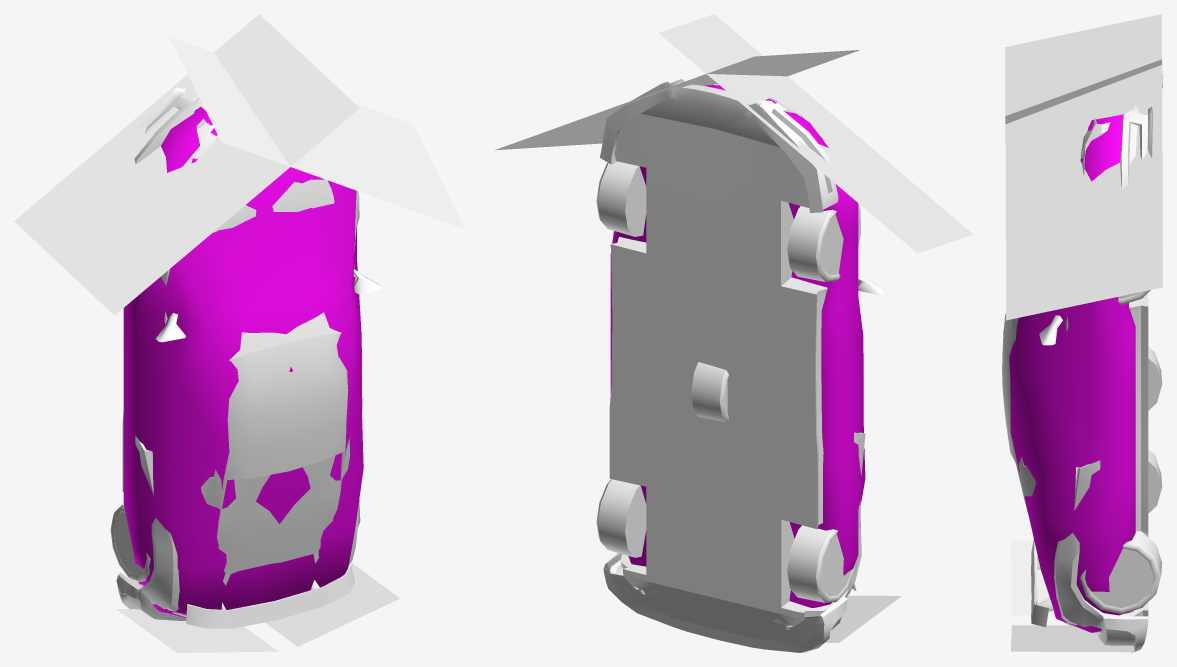
Rendered from AudiR8.glb.
3 views of the same model, side by side, from view 1: azimuth 30°, elevation 25°; view 2: azimuth 150°, elevation 25°; view 3: azimuth 270°, elevation 25° (orthographic). The views are drawn at different scales.
Visible parts, largest first — view 1: AudiR8Proxy, AudiR8FrontLights, AudiR8, AudiR8Glass, AudiR8RearLights, AudiR8Spoiler1, AudiR8FrontBumper2, AudiR8Wheel_LB, AudiR8RearBumper2; view 2: AudiR8, AudiR8FrontLights, AudiR8Proxy, AudiR8FrontBumper2, AudiR8RearBumper2, AudiR8Wheel_LB, AudiR8Wheel_LF, AudiR8Wheel_RB, AudiR8Wheel_RF, AudiR8Rims1, AudiR8RearLights; view 3: AudiR8FrontLights, AudiR8Proxy, AudiR8, AudiR8RearLights, AudiR8Wheel_RB, AudiR8FrontBumper2, AudiR8RearBumper2, AudiR8Spoiler1, AudiR8Rims1, AudiR8Wheel_LB.
Boxes of the visible parts, x1,y1,x2,y2 form: AudiR8Proxy: [123, 107, 363, 617]; AudiR8FrontLights: [14, 14, 465, 315]; AudiR8: [122, 123, 383, 617]; AudiR8Glass: [217, 312, 341, 575]; AudiR8RearLights: [116, 562, 399, 652]; AudiR8Spoiler1: [186, 564, 354, 628]; AudiR8FrontBumper2: [134, 87, 208, 164]; AudiR8Wheel_LB: [110, 504, 150, 581]; AudiR8RearBumper2: [116, 573, 186, 620]; AudiR8: [609, 84, 886, 619]; AudiR8FrontLights: [495, 14, 973, 253]; AudiR8Proxy: [610, 85, 865, 607]; AudiR8FrontBumper2: [600, 79, 838, 212]; AudiR8RearBumper2: [603, 553, 847, 652]; AudiR8Wheel_LB: [787, 525, 858, 602]; AudiR8Wheel_LF: [787, 206, 858, 281]; AudiR8Wheel_RB: [596, 479, 646, 557]; AudiR8Wheel_RF: [596, 161, 646, 236]; AudiR8Rims1: [691, 362, 728, 421]; AudiR8RearLights: [601, 581, 901, 642]; AudiR8FrontLights: [1005, 14, 1162, 320]; AudiR8Proxy: [1003, 114, 1135, 632]; AudiR8: [1002, 118, 1148, 632]; AudiR8RearLights: [1011, 540, 1134, 652]; AudiR8Wheel_RB: [1080, 531, 1162, 614]; AudiR8FrontBumper2: [1101, 105, 1152, 188]; AudiR8RearBumper2: [1097, 614, 1148, 652]; AudiR8Spoiler1: [1031, 539, 1053, 627]; AudiR8Rims1: [1148, 347, 1162, 410]; AudiR8Wheel_LB: [1148, 449, 1162, 513].
Size of the model in its own units: 3.82 by 5.24 by 1.31.
